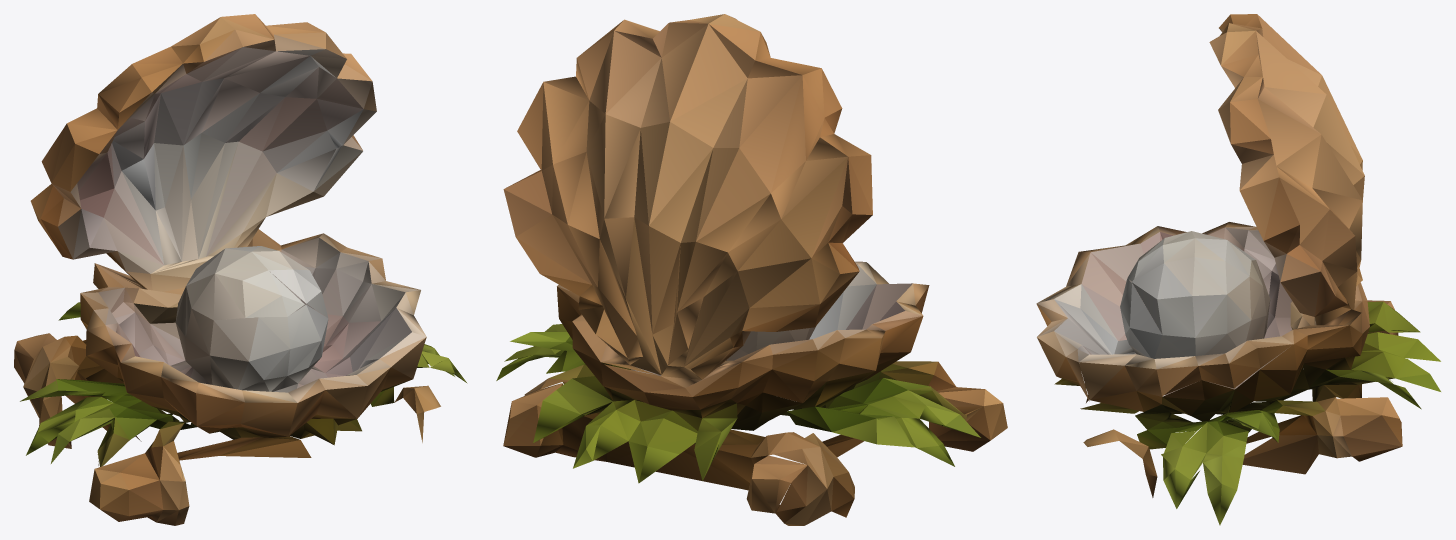
The model's file is building-pearlOrnament.glb.
3 views of the same model, side by side, from view 1: azimuth 30°, elevation 25°; view 2: azimuth 150°, elevation 25°; view 3: azimuth 270°, elevation 25° (orthographic). The views are drawn at different scales.
Visible parts, largest first — view 1: 0_pearlOrnament; view 2: 0_pearlOrnament; view 3: 0_pearlOrnament.
Part boxes in pixels (x1,y1,x2,y2): 0_pearlOrnament: (14, 14, 467, 525); 0_pearlOrnament: (496, 14, 1007, 525); 0_pearlOrnament: (1036, 14, 1440, 525).
Bounding box in the file's own units: 0.5 × 0.4684 × 0.4173.
